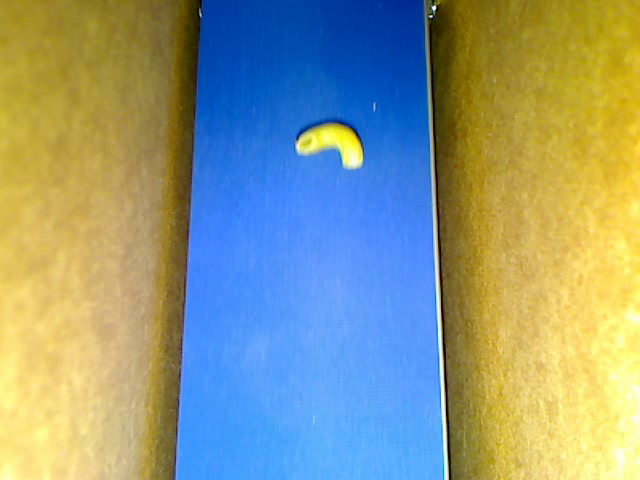elbow: (294, 122, 362, 168)
